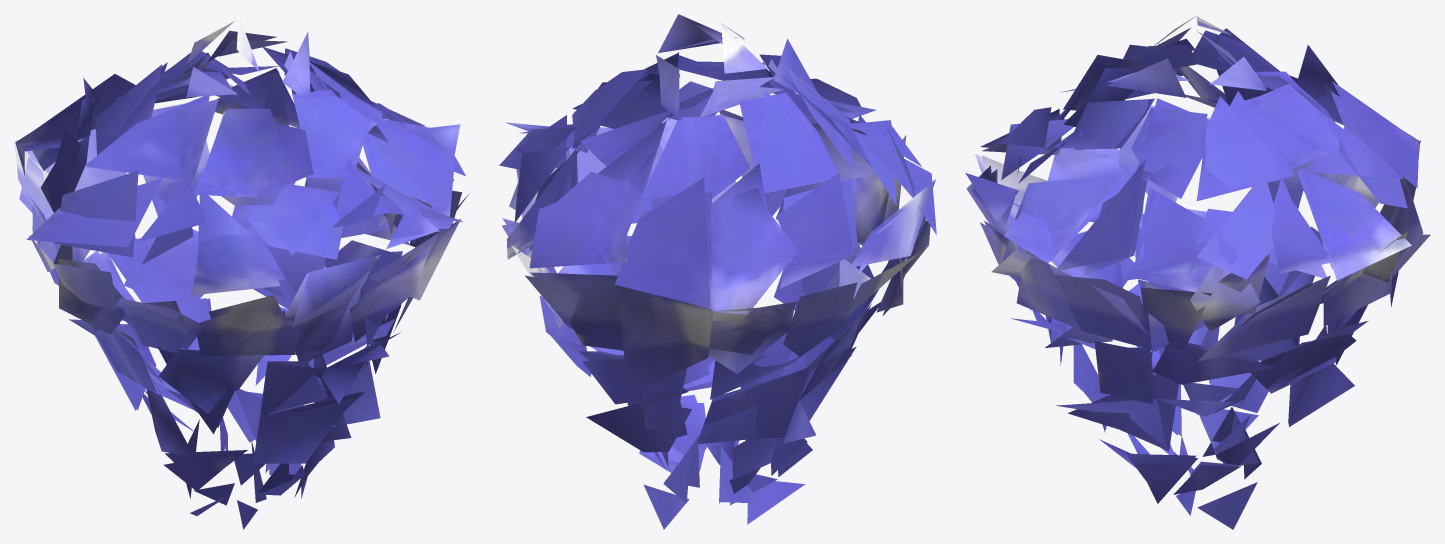
The model's file is gem-klein.glb.
3 views of the same model, side by side, from view 1: azimuth 30°, elevation 25°; view 2: azimuth 150°, elevation 25°; view 3: azimuth 270°, elevation 25° (orthographic). The views are drawn at different scales.
Visible parts, largest first — view 1: mesh_node; view 2: mesh_node; view 3: mesh_node.
Boxes of the visible parts, x1=… form: mesh_node: x1=14, y1=15, x2=468, y2=529; mesh_node: x1=499, y1=14, x2=936, y2=529; mesh_node: x1=965, y1=15, x2=1430, y2=529.
Size of the model in its own units: 0.7799 by 0.8783 by 0.7386.
Materials: 1 (1 with a texture image).
